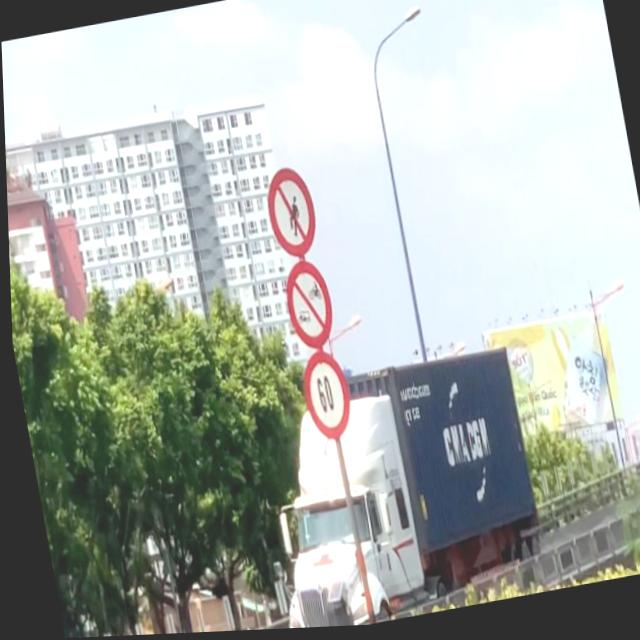Toc do toi da cho phep: (295, 348, 355, 449)
